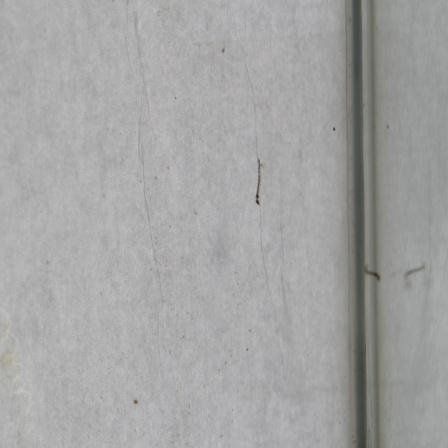Jentik-Nyamuk: (251, 153, 269, 207)
